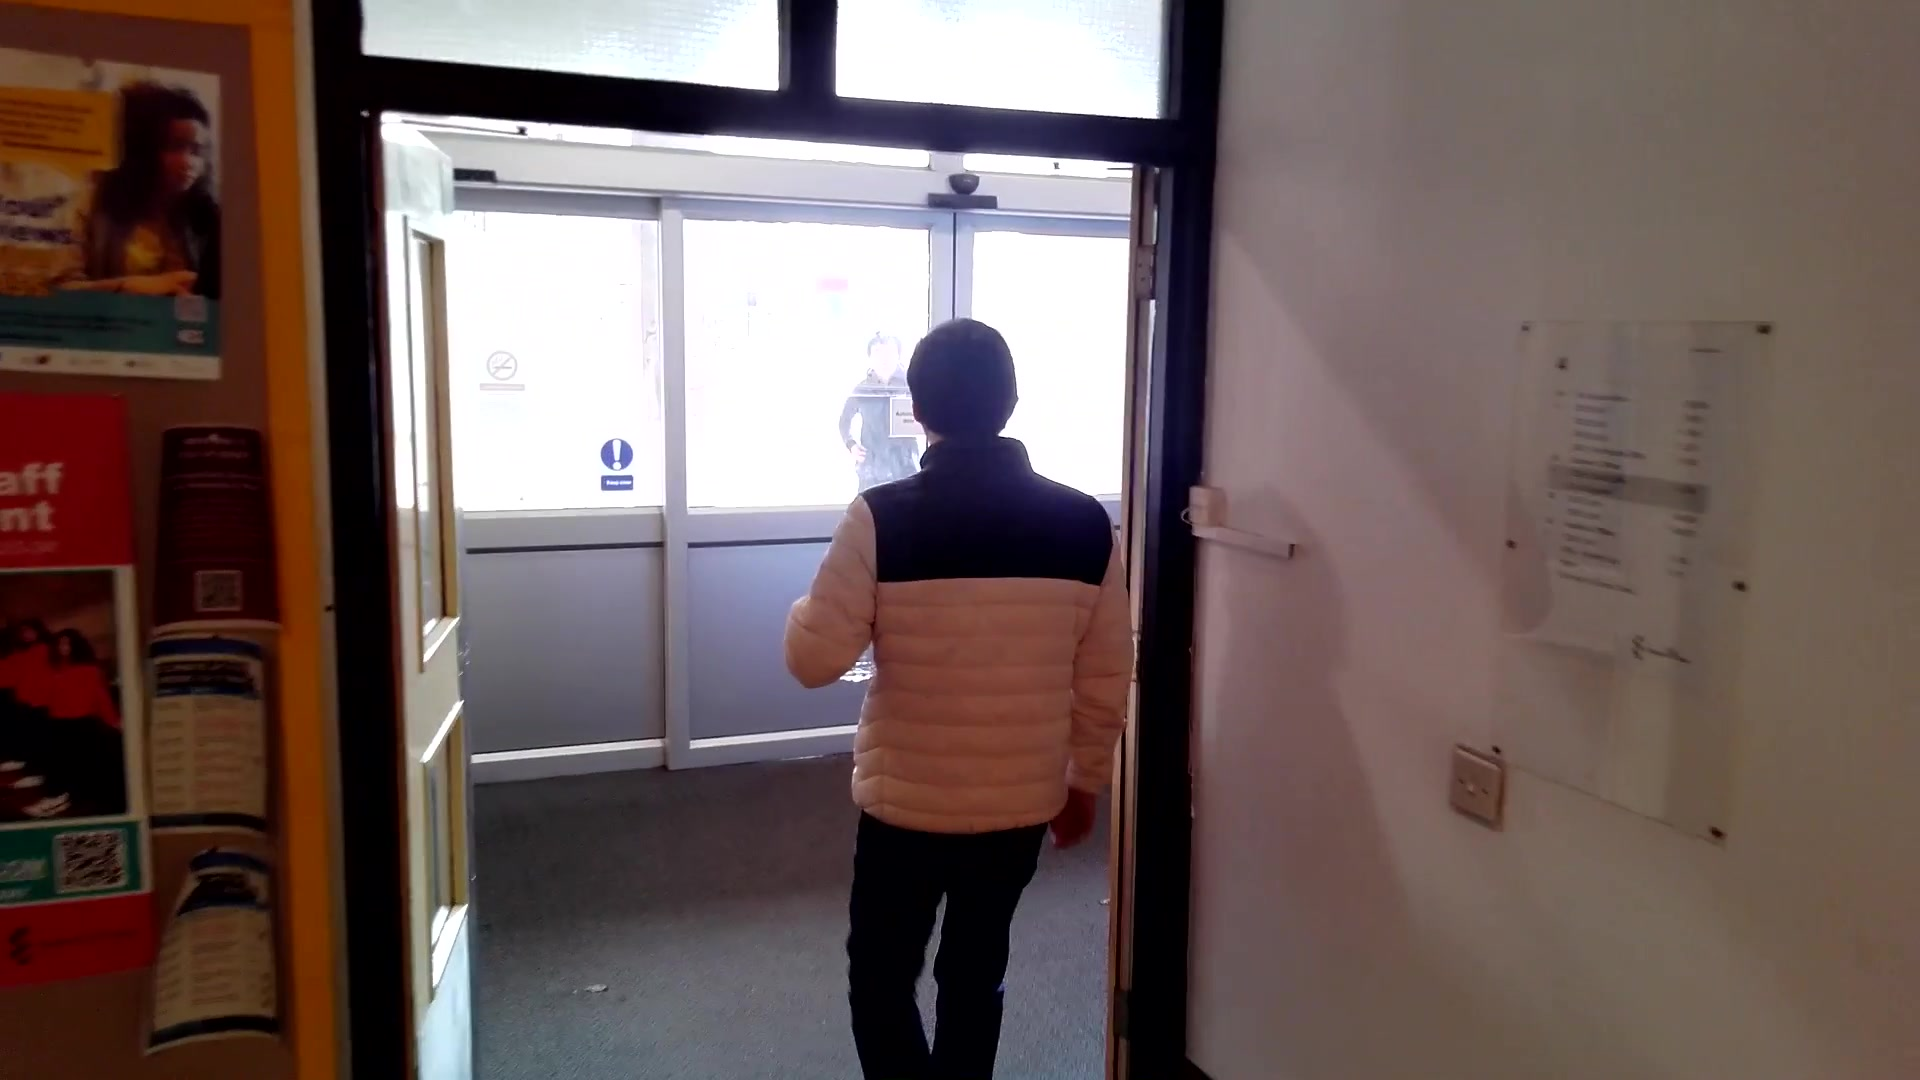Person: (861, 314, 1118, 1080)
